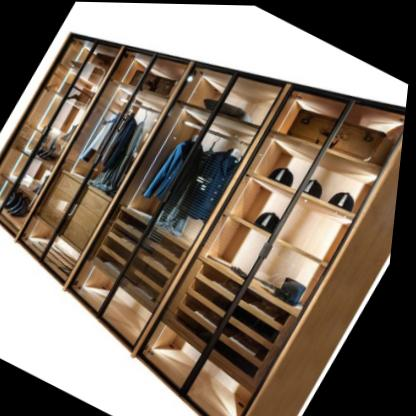Transparent Closet: (0, 34, 408, 416)
